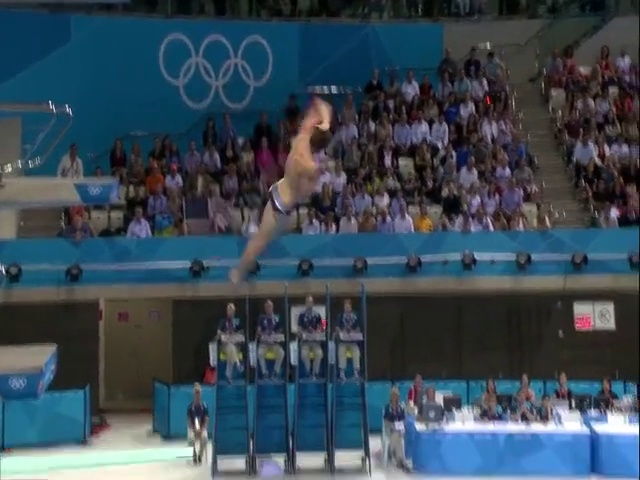diver: (230, 105, 334, 279)
